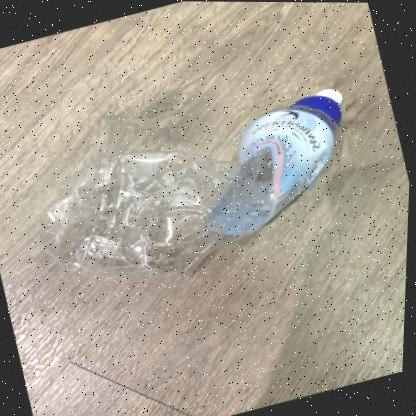Plastic: (42, 88, 344, 281)
